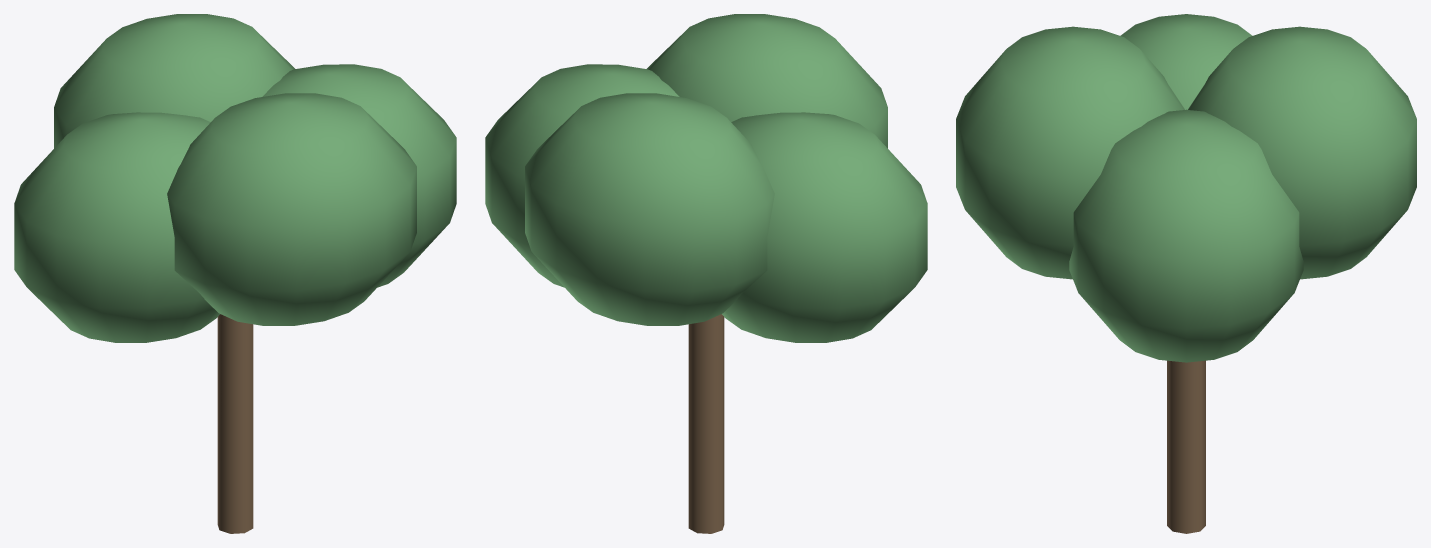
File: near.glb
The picture shows the model from 3 angles, left to right: view 1: azimuth 30°, elevation 25°; view 2: azimuth 150°, elevation 25°; view 3: azimuth 270°, elevation 25°; orthographic projection. The views are drawn at different scales.
Visible parts, largest first — view 1: EnvironmentAsset; view 2: EnvironmentAsset; view 3: EnvironmentAsset.
Boxes of the visible parts, x1,y1,x2,y2 form: EnvironmentAsset: [14, 14, 456, 533]; EnvironmentAsset: [485, 14, 927, 533]; EnvironmentAsset: [956, 14, 1416, 533].
Bounding box in the file's own units: 1.56 × 1.65 × 1.42.
